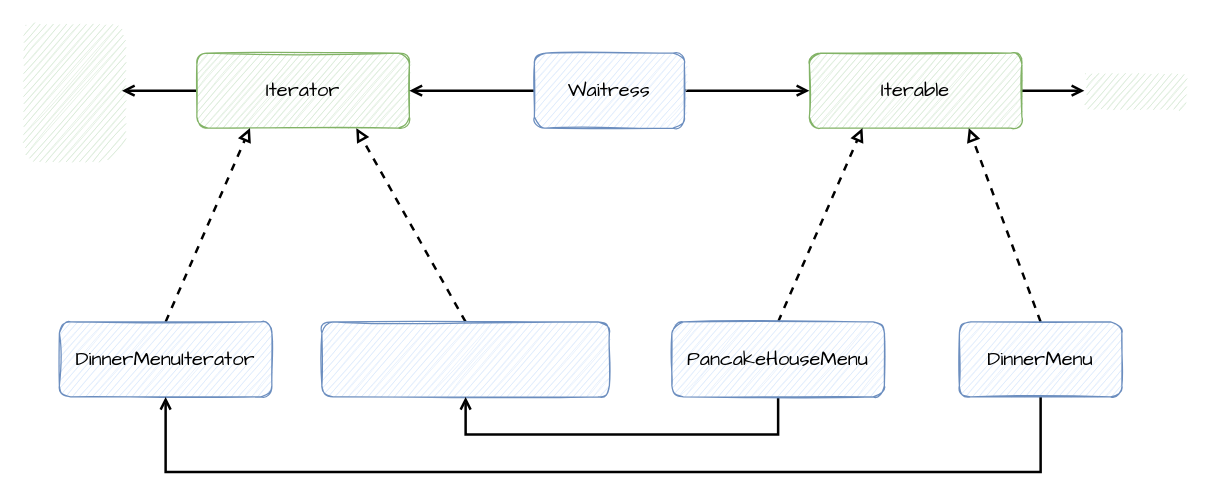
Image size: 1205x504. Some labels were removed from this diagram. Each missing label, with the box of its shape:
hasNext(); next(); remove();: (21, 21, 121, 159)
iterator();: (1084, 71, 1184, 109)
PancakeHouseMenuIterator: (321, 321, 609, 397)
